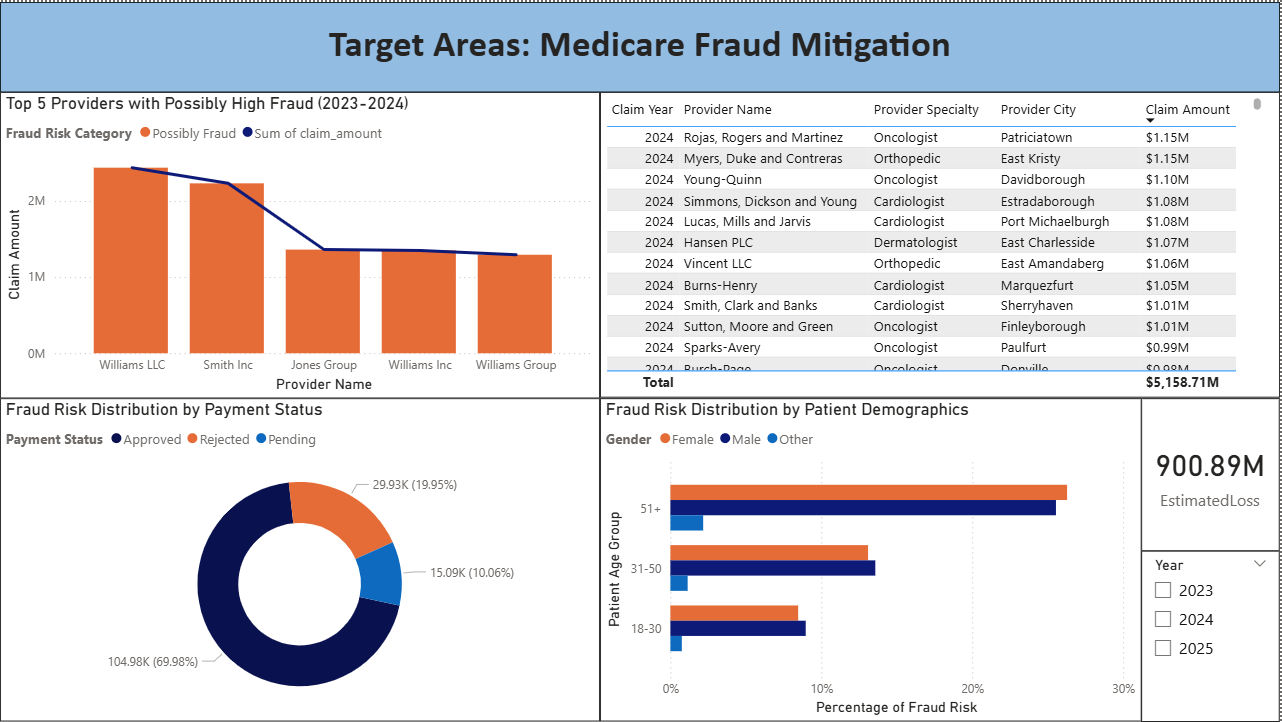

The dashboard page shown, as its layout file describes it:
{"tool":"powerbi","page":{"name":"Action Insights Dashboard","canvas":[1280,720],"ordinal":1},"visuals":[{"type":"textbox","box":[0,0,1280.3,90.5],"z":0},{"type":"donutChart","title":"Fraud Risk Distribution by Payment Status","fields":{"Y":["CountNonNull(payments.claim_id)"],"Category":["payments.status","claims.claim_date.Variation.Date Hierarchy.Year","claims.claim_date.Variation.Date Hierarchy.Quarter"]},"box":[0,396.3,600.1,323.6],"z":1000},{"type":"tableEx","fields":{"Values":["claims.Claim_Year","providers.name","providers.specialty","providers.city","Sum(claims.claim_amount)","claims.claim_date.Variation.Date Hierarchy.Year","claims.claim_date.Variation.Date Hierarchy.Quarter","claims.claim_date.Variation.Date Hierarchy.Month","claims.claim_date.Variation.Date Hierarchy.Day"]},"box":[600,90,680,305.7],"z":2000},{"type":"lineStackedColumnComboChart","title":"Top 5 Providers with Possibly High Fraud (2023-2024)","fields":{"Category":["providers.name","claims.claim_date.Variation.Date Hierarchy.Year","claims.claim_date.Variation.Date Hierarchy.Quarter"],"Series":["claims.FraudRiskStatus"],"Y":["Sum(claims.claim_amount)"],"Y2":["Sum(claims.claim_amount)"]},"box":[0,89.8,600.1,306.5],"z":3000},{"type":"card","fields":{"Values":["claims.EstimatedLoss"]},"box":[1141.7,396.3,138.3,152.5],"z":4000},{"type":"clusteredBarChart","title":"Fraud Risk Distribution by Patient Demographics","fields":{"Category":["patients.Age Group","claims.claim_date.Variation.Date Hierarchy.Year","claims.claim_date.Variation.Date Hierarchy.Quarter"],"Series":["patients.gender"],"Y":["CountNonNull(claims.FraudRiskStatus)"]},"box":[600.1,396.3,541.6,323.6],"z":5000},{"type":"slicer","fields":{"Values":["claims.claim_date.Variation.Date Hierarchy.Year","claims.claim_date.Variation.Date Hierarchy.Quarter"]},"box":[1141.2,548.8,138.8,171.2],"z":6000}]}

Visuals, with their boxes in screenshot pixels (x1, y1, x2, y2), scaled from the page's 1280x720 canvas onto the 1282x722 screenshot:
textbox: [x1=0, y1=0, x2=1281, y2=91]
"Fraud Risk Distribution by Payment Status" donutChart: [x1=0, y1=397, x2=601, y2=721]
tableEx - claims.Claim_Year x providers.name: [x1=601, y1=90, x2=1281, y2=397]
"Top 5 Providers with Possibly High Fraud (2023-2024)" lineStackedColumnComboChart: [x1=0, y1=90, x2=601, y2=397]
card - claims.EstimatedLoss: [x1=1143, y1=397, x2=1281, y2=550]
"Fraud Risk Distribution by Patient Demographics" clusteredBarChart: [x1=601, y1=397, x2=1143, y2=721]
slicer - claims.claim_date.Variation.Date Hierarchy.Year x claims.claim_date.Variation.Date Hierarchy.Quarter: [x1=1143, y1=550, x2=1281, y2=721]
